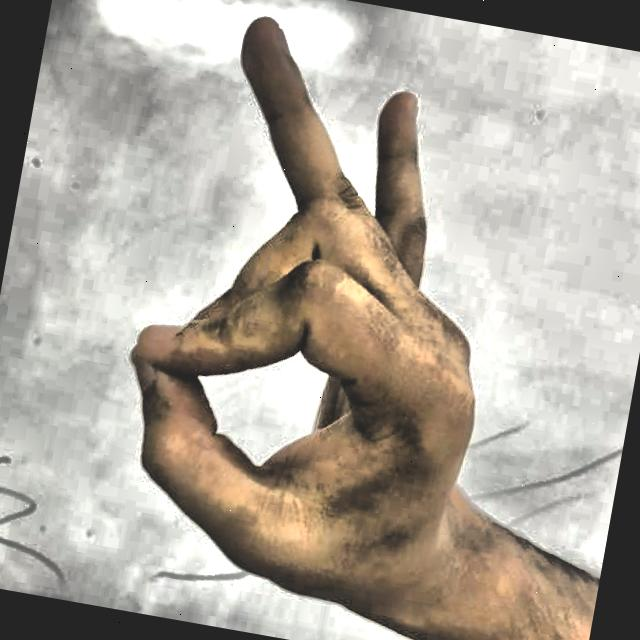Na: (43, 0, 576, 640)
